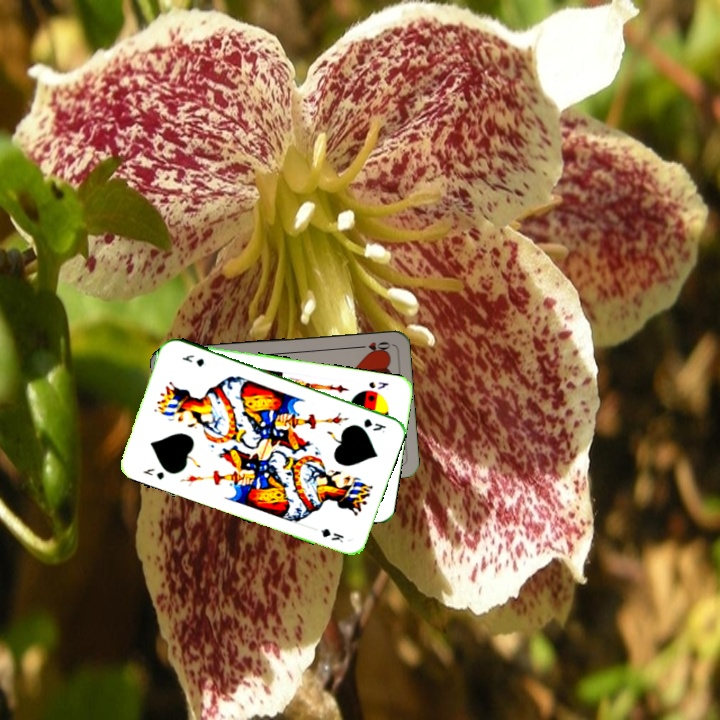GK: (360, 415, 389, 436), (139, 464, 167, 482)
HO: (353, 337, 393, 354)
SK: (365, 378, 392, 392)
